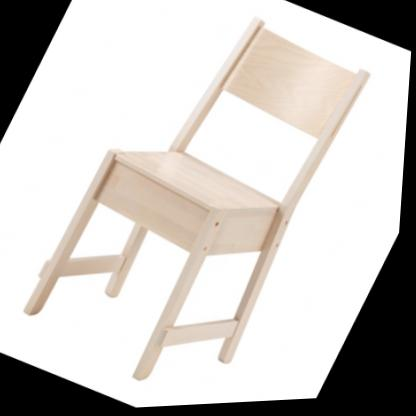Chair: (6, 0, 387, 415)
